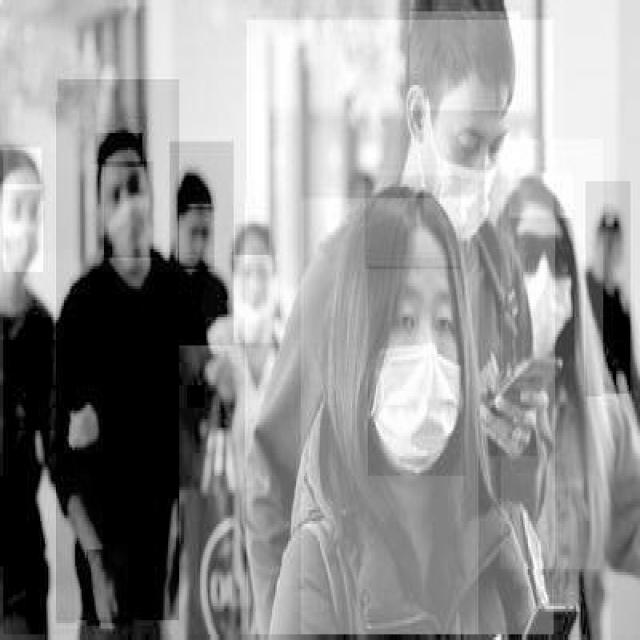face_mask: (368, 266, 466, 476), (509, 215, 573, 357), (102, 162, 154, 260), (234, 255, 278, 343), (2, 184, 43, 275)
face_nomask: (178, 207, 215, 269)
hand_noglove: (485, 376, 542, 458), (85, 549, 133, 629)
head_nohelmet: (408, 12, 520, 114), (363, 175, 461, 272), (507, 173, 573, 221), (1, 147, 42, 190), (93, 133, 142, 167), (234, 224, 268, 258)
person: (244, 20, 554, 637), (300, 198, 478, 637), (56, 79, 179, 623), (498, 139, 602, 572), (2, 102, 75, 637), (219, 198, 290, 473), (168, 142, 234, 348), (584, 182, 630, 396)
